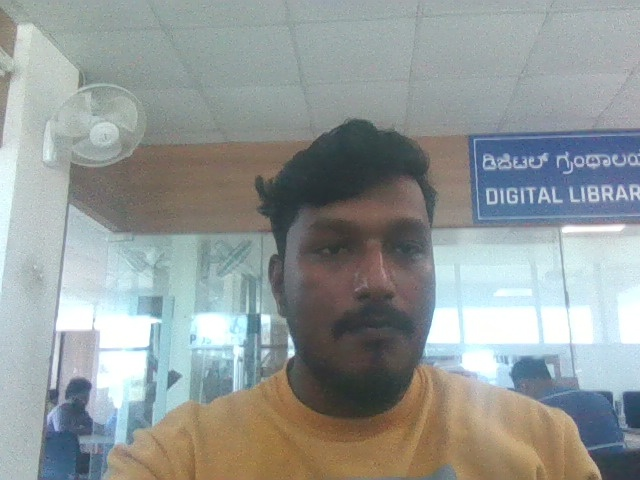real: (251, 100, 464, 402)
